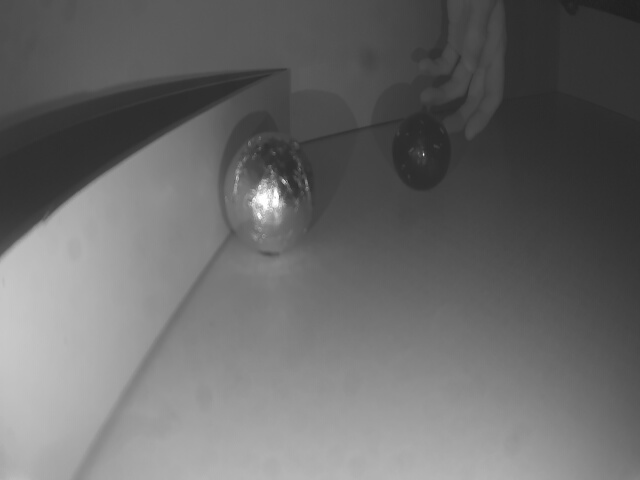Dead: (393, 108, 452, 193)
Live: (226, 135, 320, 263)
Red: (0, 69, 291, 480)
